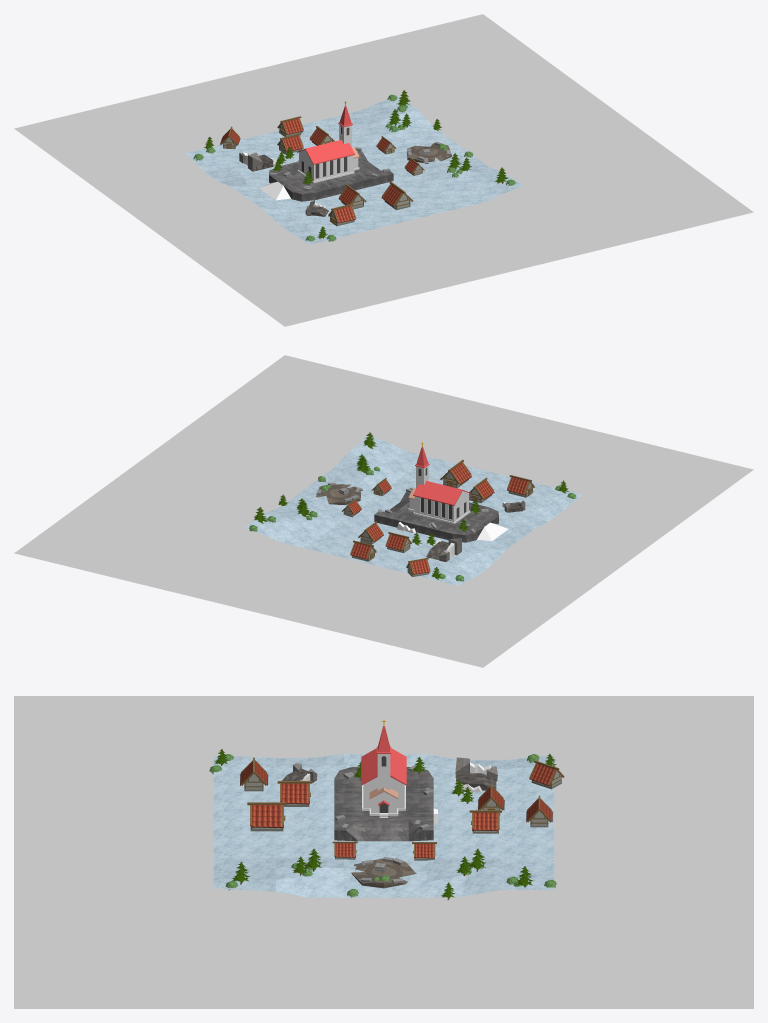
File: TL_map_kamchatka.glb
The picture shows the model from 3 angles, top to bottom: view 1: azimuth 30°, elevation 25°; view 2: azimuth 150°, elevation 25°; view 3: azimuth 270°, elevation 25°; orthographic projection. The views are drawn at different scales.
Parts seen in each view (by area): view 1: Plane, Plane.001, Cube.001, Church, Cube.013; view 2: Plane, Plane.001, Church, Cube.001, Cube.013; view 3: Plane, Plane.001, Cube.001, Church, Cube.013, image-removebg-preview (11).004, image-removebg-preview (11).
Part boxes in pixels (x1=…): Plane: x1=14, y1=14, x2=753, y2=326; Plane.001: x1=185, y1=96, x2=523, y2=244; Cube.001: x1=269, y1=147, x2=393, y2=201; Church: x1=297, y1=101, x2=359, y2=183; Cube.013: x1=407, y1=143, x2=451, y2=162; Plane: x1=14, y1=355, x2=753, y2=667; Plane.001: x1=244, y1=436, x2=582, y2=585; Church: x1=408, y1=442, x2=470, y2=524; Cube.001: x1=374, y1=488, x2=498, y2=542; Cube.013: x1=316, y1=484, x2=360, y2=504; Plane: x1=14, y1=696, x2=753, y2=1008; Plane.001: x1=213, y1=754, x2=554, y2=897; Cube.001: x1=334, y1=767, x2=433, y2=841; Church: x1=361, y1=720, x2=406, y2=817; Cube.013: x1=351, y1=858, x2=416, y2=888; image-removebg-preview (11).004: x1=250, y1=805, x2=282, y2=827; image-removebg-preview (11): x1=281, y1=783, x2=309, y2=804.
Bounding box in the file's own units: 17.66 × 4.38 × 17.66.
Materials: 17 (10 with a texture image).
